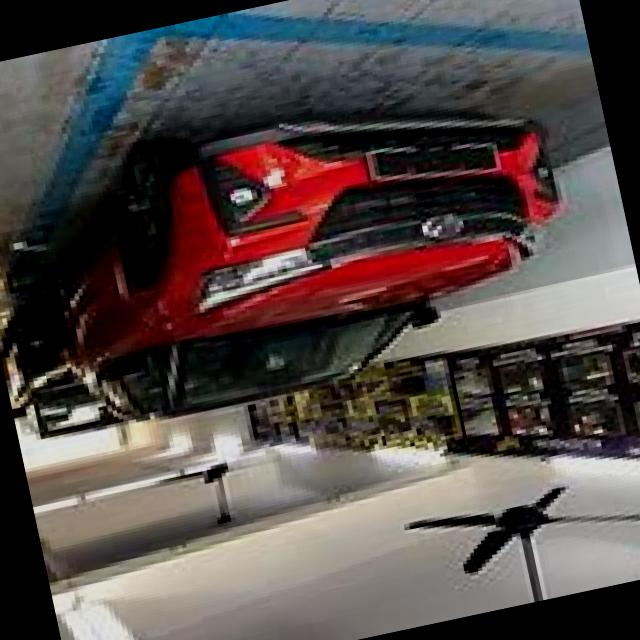PeroduaAtiva: (19, 59, 596, 444)
